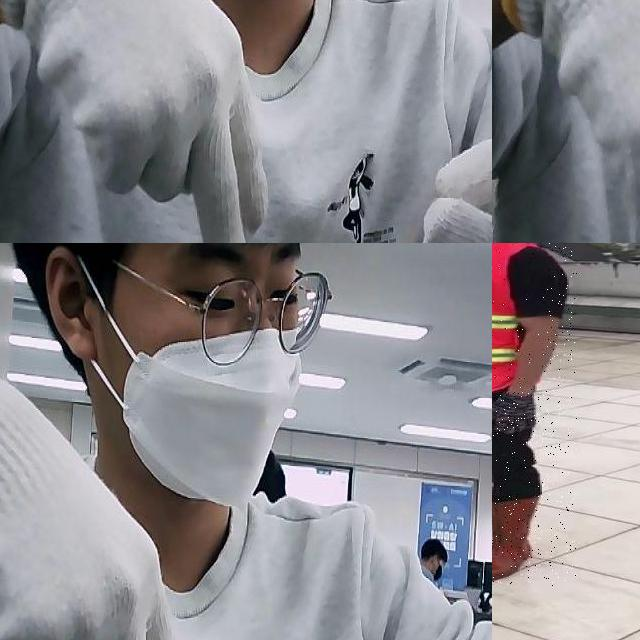BOOTS: (492, 495, 544, 582)
GLOVE: (0, 0, 268, 243), (0, 367, 189, 640), (497, 0, 640, 243), (413, 122, 492, 243), (492, 394, 543, 435)
VEST: (492, 243, 547, 392)
